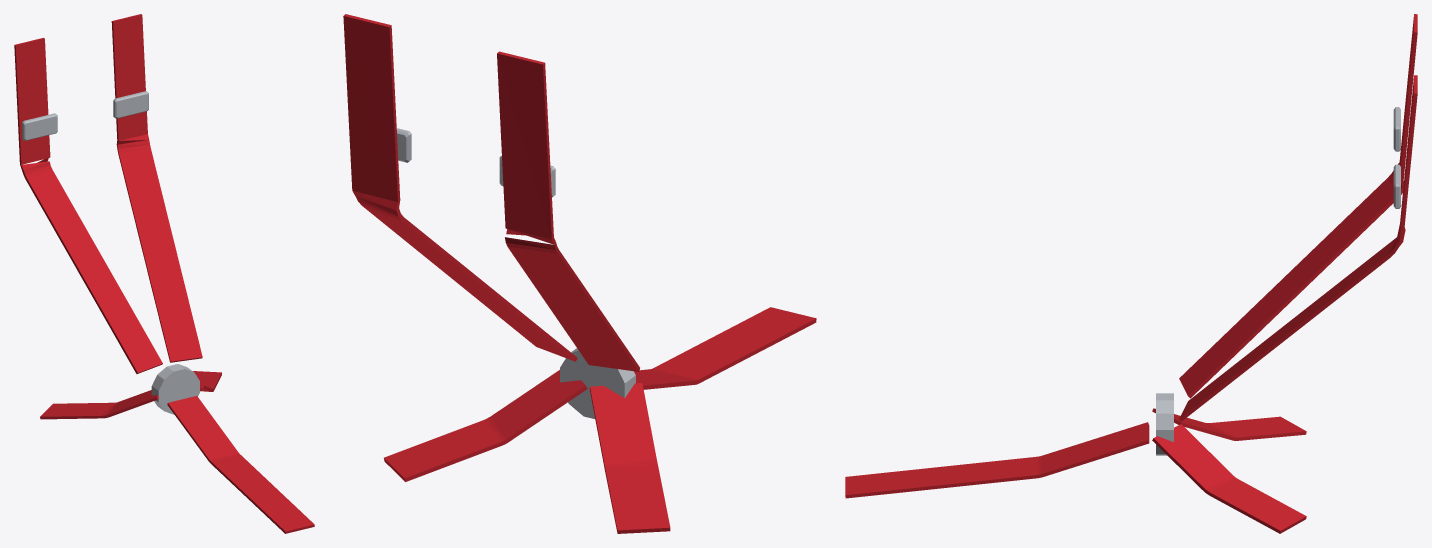
The model's file is ridgeback_4x4.glb.
The picture shows the model from 3 angles, left to right: view 1: azimuth 30°, elevation 25°; view 2: azimuth 150°, elevation 25°; view 3: azimuth 270°, elevation 25°; orthographic projection. The views are drawn at different scales.
Parts seen in each view (by area): view 1: model; view 2: model; view 3: model.
Boxes of the visible parts, left/top/right/bottom form: model: left=14, top=14, right=314, bottom=533; model: left=343, top=14, right=816, bottom=533; model: left=845, top=14, right=1417, bottom=533.
Size of the model in its own units: 0.2989 by 0.5312 by 0.6326.
1 material, 1 textured.
